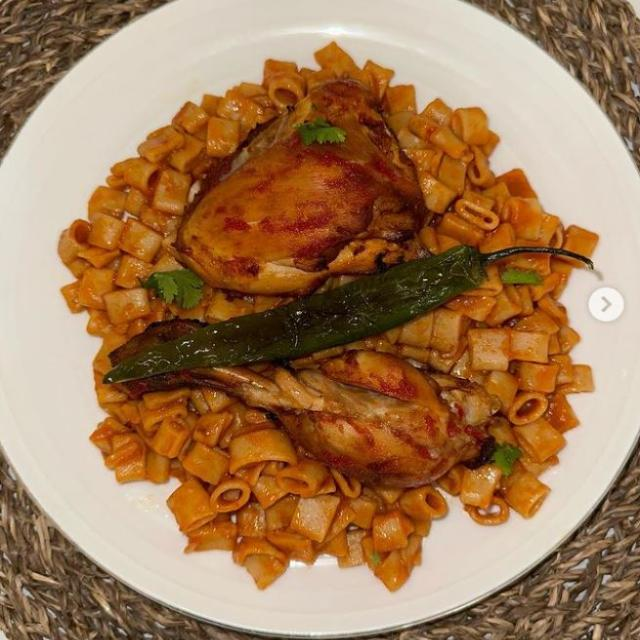Pasta: (28, 33, 640, 582)
